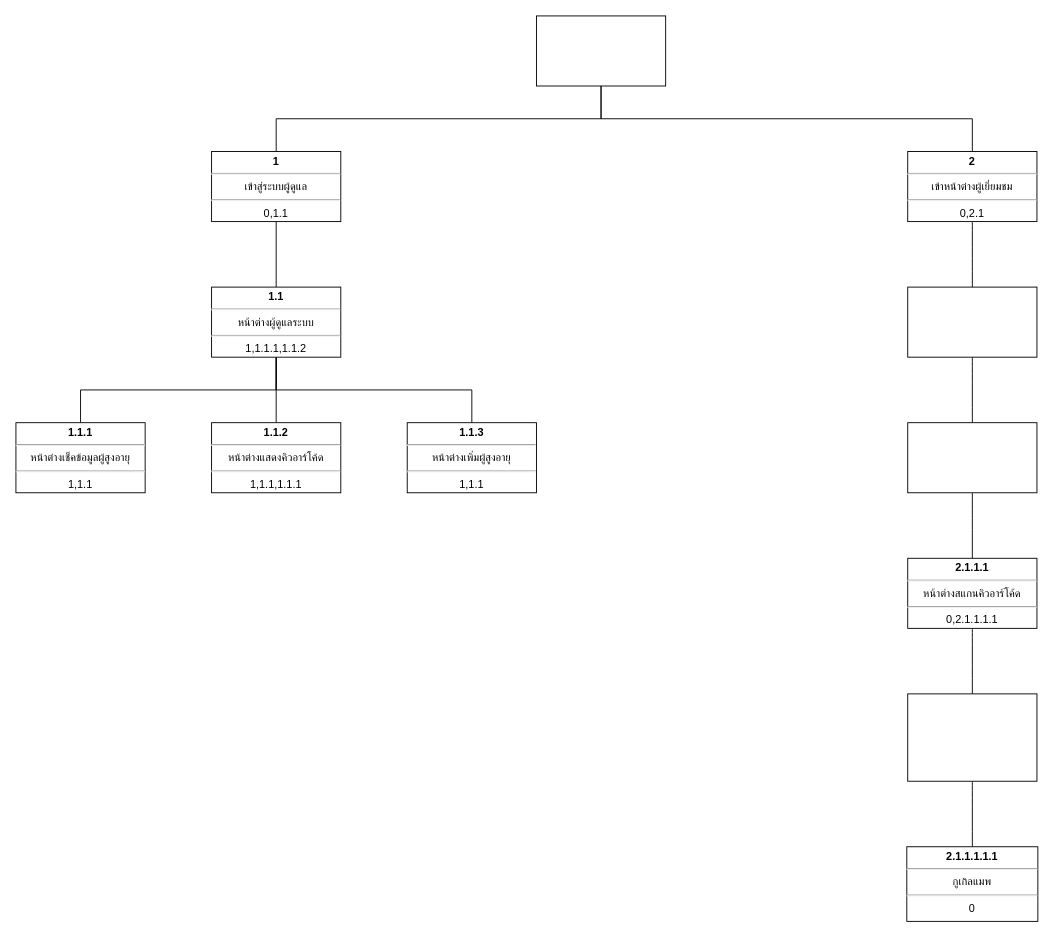
Some shapes in this 1054 by 937 pixel diagram are drawn without their labels. The shapes that lost their labels are listed below. From the top down, each one's centre as x and y in pixels, then its label:
At (x=601, y=50): "0 หน้าจอหลัก 0,1".
At (x=972, y=321): "2.1 หน้าต่างยืนยันการเก็บข้อมูล 0,2.1.1".
At (x=972, y=457): "2.1.1 หน้าต่างเก็บข้อมูลผู้เยี่ยมชม 0,2.1.1.1".
At (x=972, y=737): "2.1.1.1.1 หน้าต่างแสดงตัวอย่างข้อมูลผู้สูงอายุ 0,2.1.1.1.1.1".
